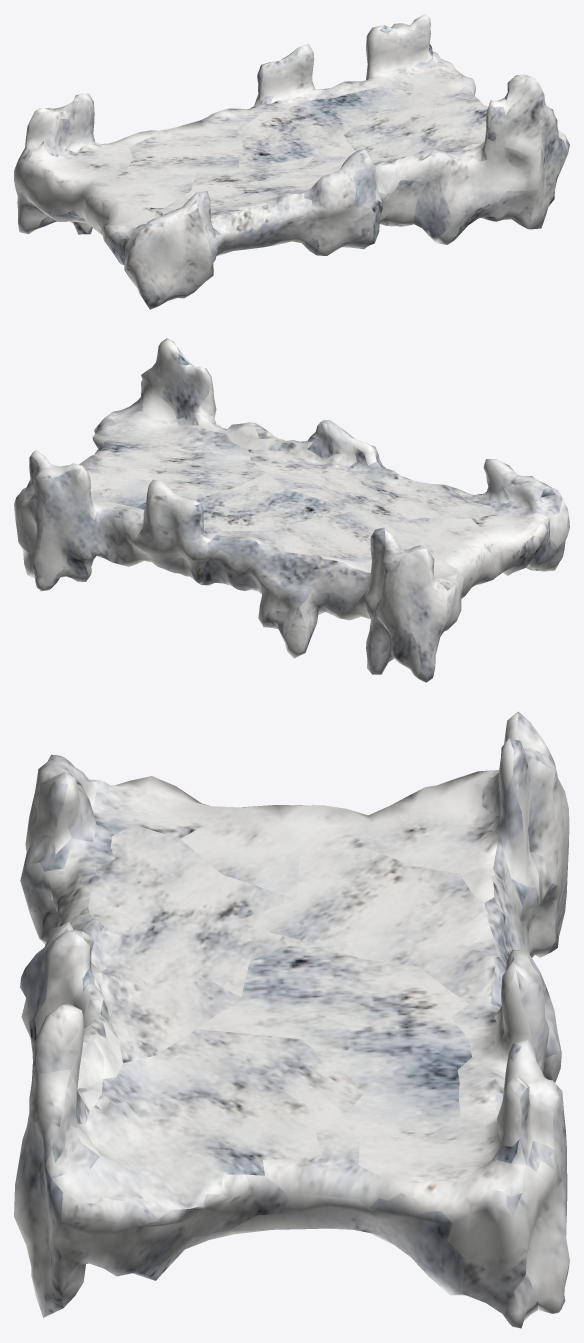
The model's file is plataforma_1.obj.
The picture shows the model from 3 angles, top to bottom: view 1: azimuth 30°, elevation 25°; view 2: azimuth 150°, elevation 25°; view 3: azimuth 270°, elevation 25°; orthographic projection. The views are drawn at different scales.
Visible parts, largest first — view 1: plataforma_1_plataforma; view 2: plataforma_1_plataforma; view 3: plataforma_1_plataforma.
Boxes of the visible parts, <box> form: plataforma_1_plataforma: <box>14,14,569,309</box>; plataforma_1_plataforma: <box>14,338,569,682</box>; plataforma_1_plataforma: <box>14,711,569,1328</box>.
Size of the model in its own units: 4.73 by 1.7 by 2.6.
Materials: 1 (1 with a texture image).
